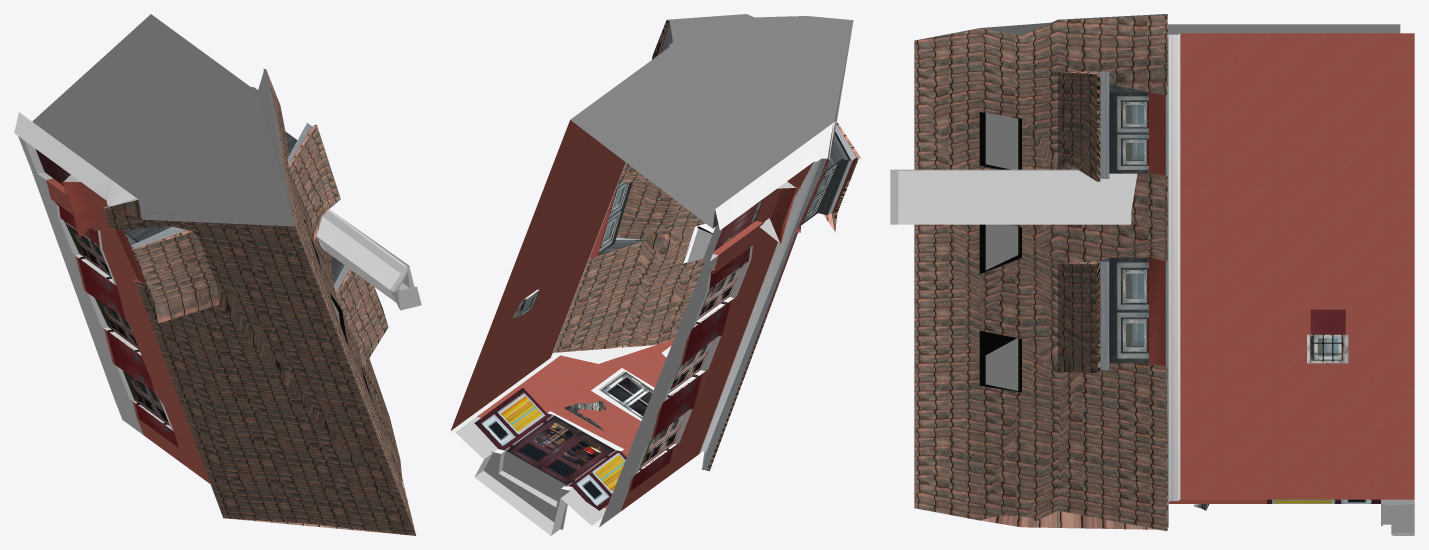
Rendered from Saiakang_4-origo.obj.
The picture shows the model from 3 angles, left to right: view 1: azimuth 30°, elevation 25°; view 2: azimuth 150°, elevation 25°; view 3: azimuth 270°, elevation 25°; orthographic projection. The views are drawn at different scales.
Parts seen in each view (by area): view 1: Saiakang_4; view 2: Saiakang_4; view 3: Saiakang_4.
Part boxes in pixels (x1,y1,x2,y2): Saiakang_4: [14, 14, 421, 535]; Saiakang_4: [450, 14, 861, 535]; Saiakang_4: [890, 14, 1414, 535].
Size of the model in its own units: 7.75 by 11 by 10.14.
